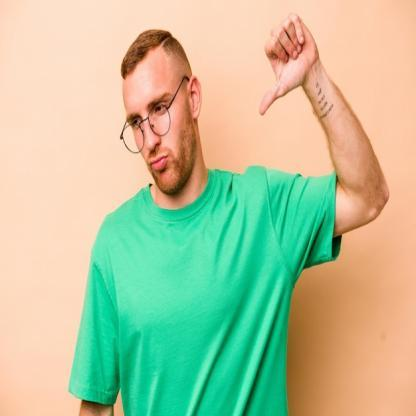thumb_down: (256, 9, 314, 117)
